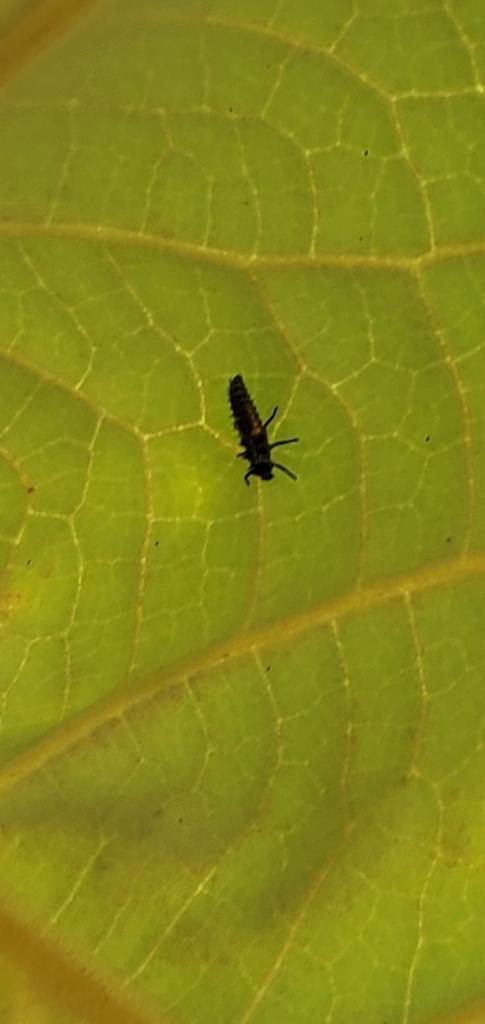ladybug: (229, 374, 306, 486)
